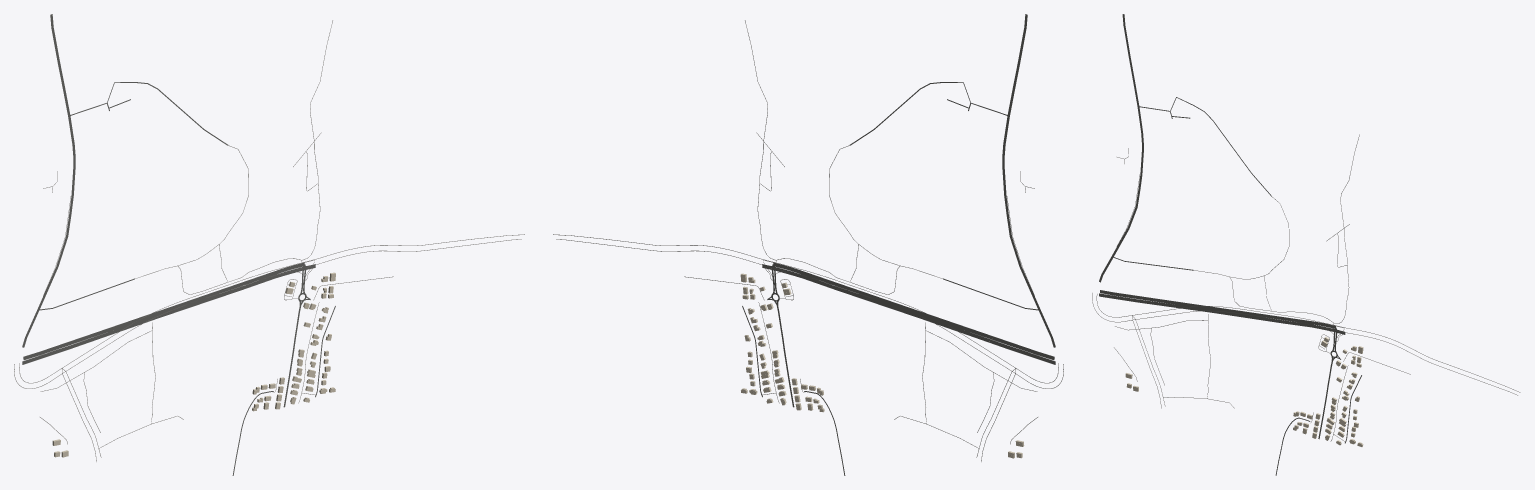
Rendered from historic-palestine-07_29_3489_3232.glb.
3 renders of one model, left to right at view 1: azimuth 30°, elevation 25°; view 2: azimuth 150°, elevation 25°; view 3: azimuth 330°, elevation 25°, orthographic. The views are drawn at different scales.
Visible parts, largest first — view 1: Road 57.004, Road 57.001, Road השרון, Road .013; view 2: Road 57.004, Road 57.001, Road השרון, Road .013; view 3: Road 57.004, Road 57.001, Road השרון.
Boxes of the visible parts, x1,y1,x2,y2 form: Road 57.004: (23, 262, 304, 359); Road 57.001: (22, 270, 290, 364); Road השרון: (22, 14, 75, 347); Road .013: (19, 234, 524, 383); Road 57.004: (773, 262, 1054, 359); Road 57.001: (787, 270, 1055, 364); Road השרון: (1002, 14, 1055, 347); Road .013: (553, 234, 1058, 383); Road 57.004: (1100, 290, 1335, 328); Road 57.001: (1099, 293, 1324, 329); Road השרון: (1099, 14, 1143, 282).
Size of the model in its own units: 1713 by 1622 by 8.7.
